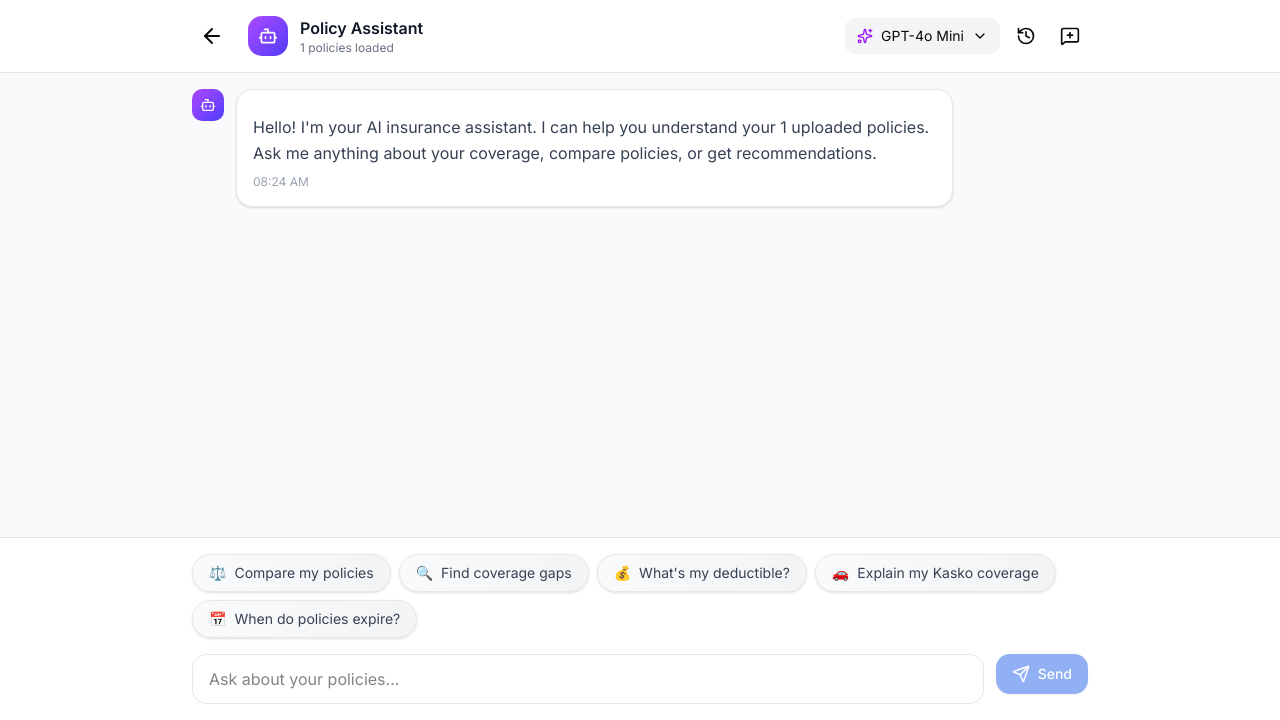
Test: PolicyChat › message sending › sends a message when clicking send
In the field with placeholder "Ask about your policies...": (588, 679) [192,654,984,704], type "What is my coverage?"
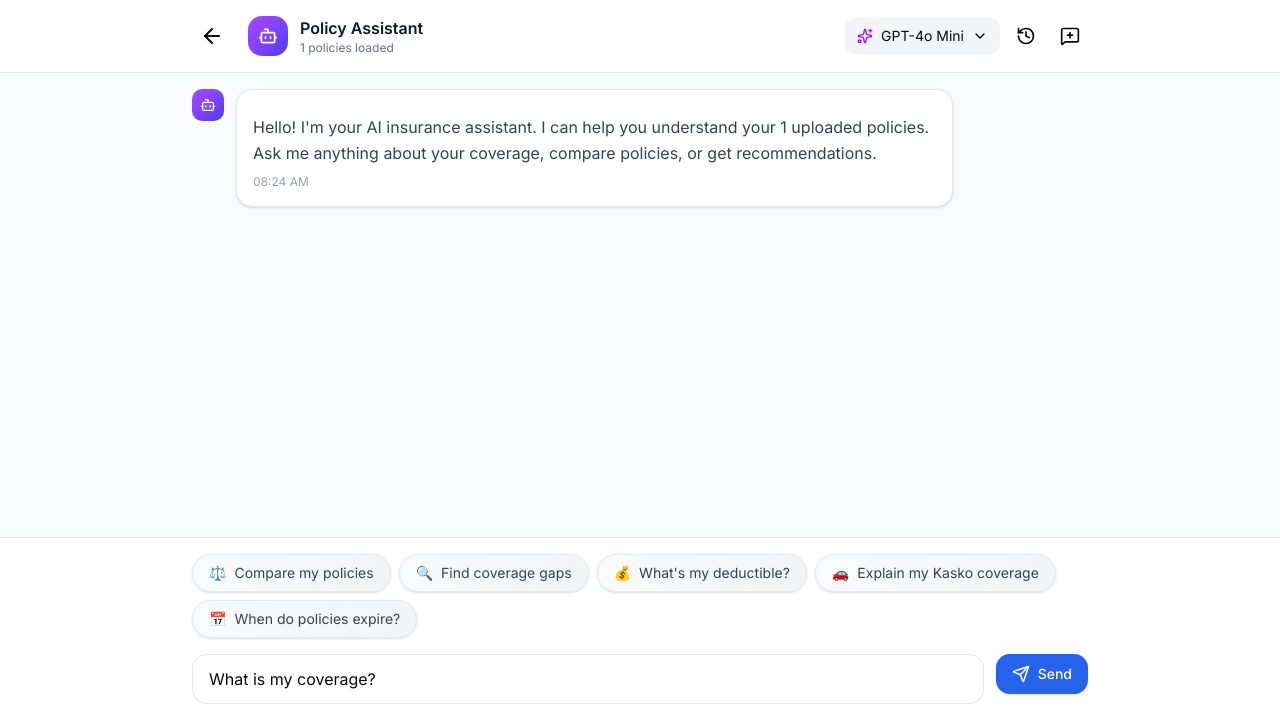
Click the button "Send": (1042, 674) [996,654,1088,694]
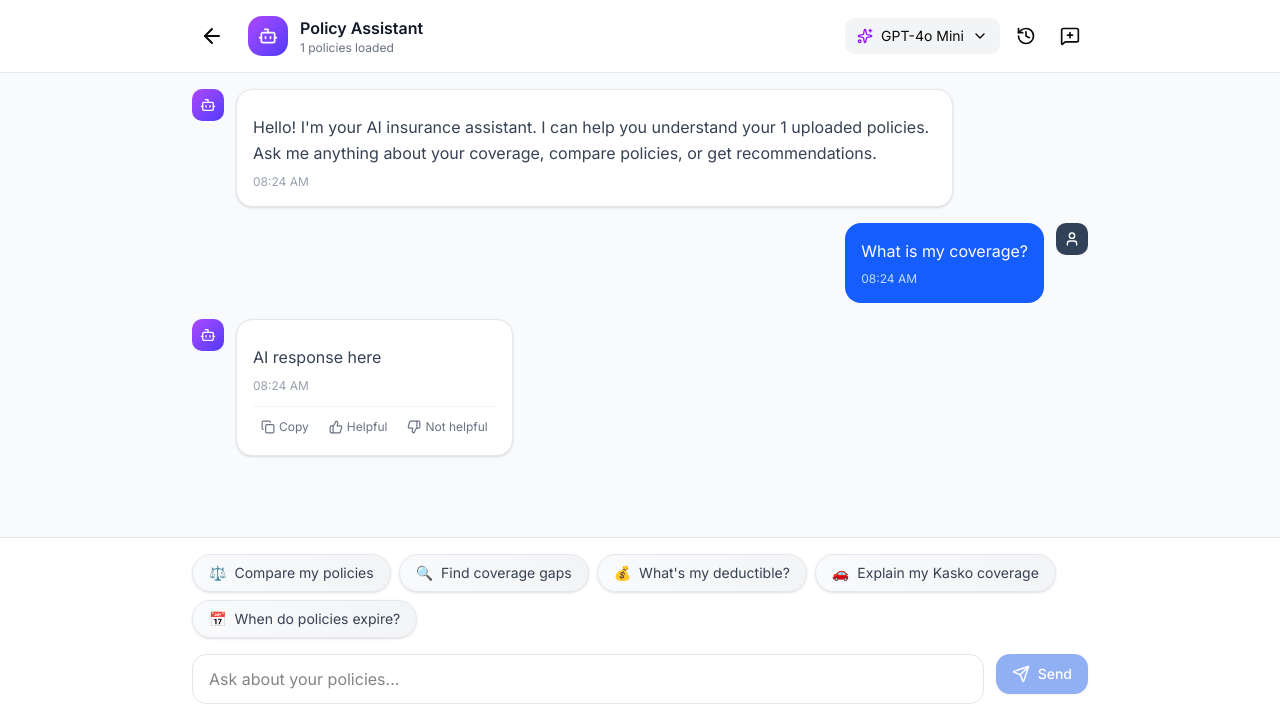
Expected: the text "AI response here" is shown, [253,347,381,367]
